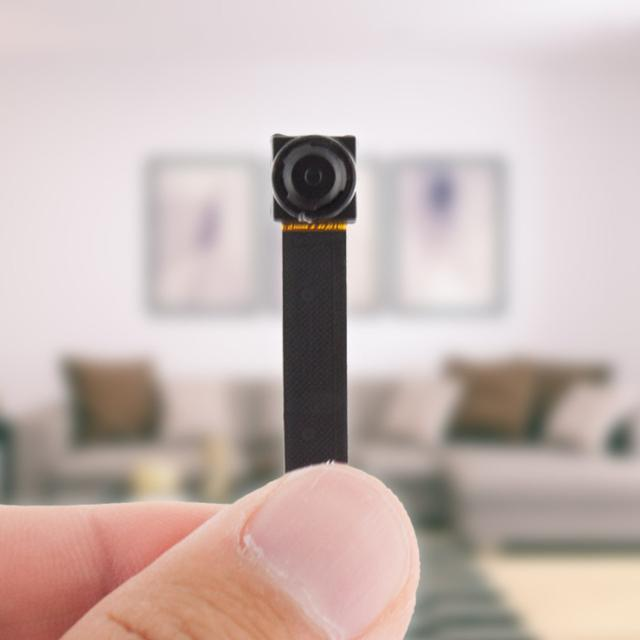hidden camera: (274, 133, 360, 224)
